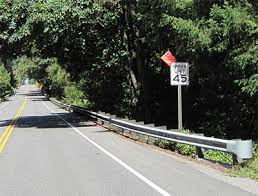speedLimit45: (170, 61, 189, 87)
